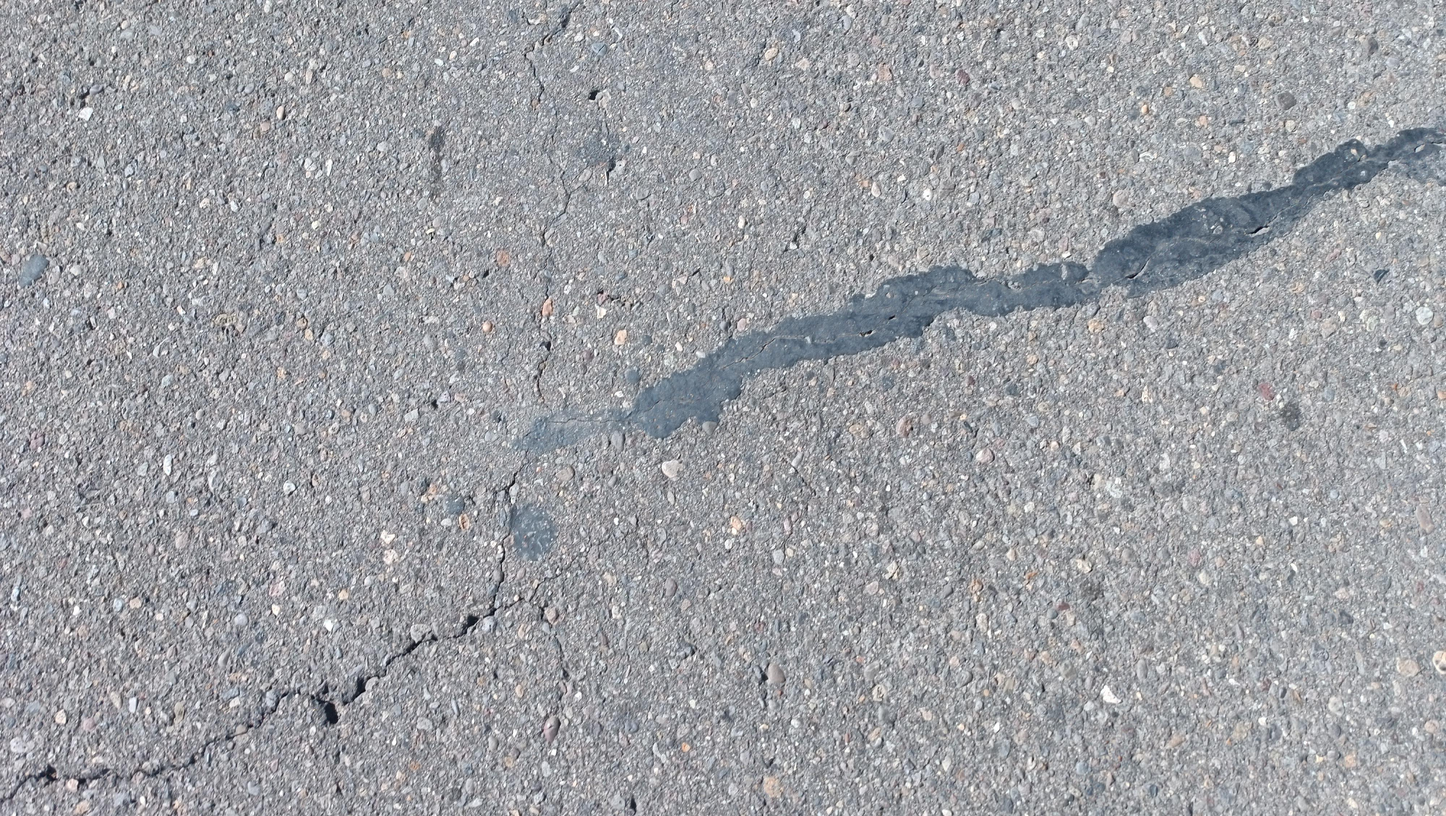GRIETA: (0, 689, 340, 808), (350, 607, 498, 700), (492, 532, 511, 604)
